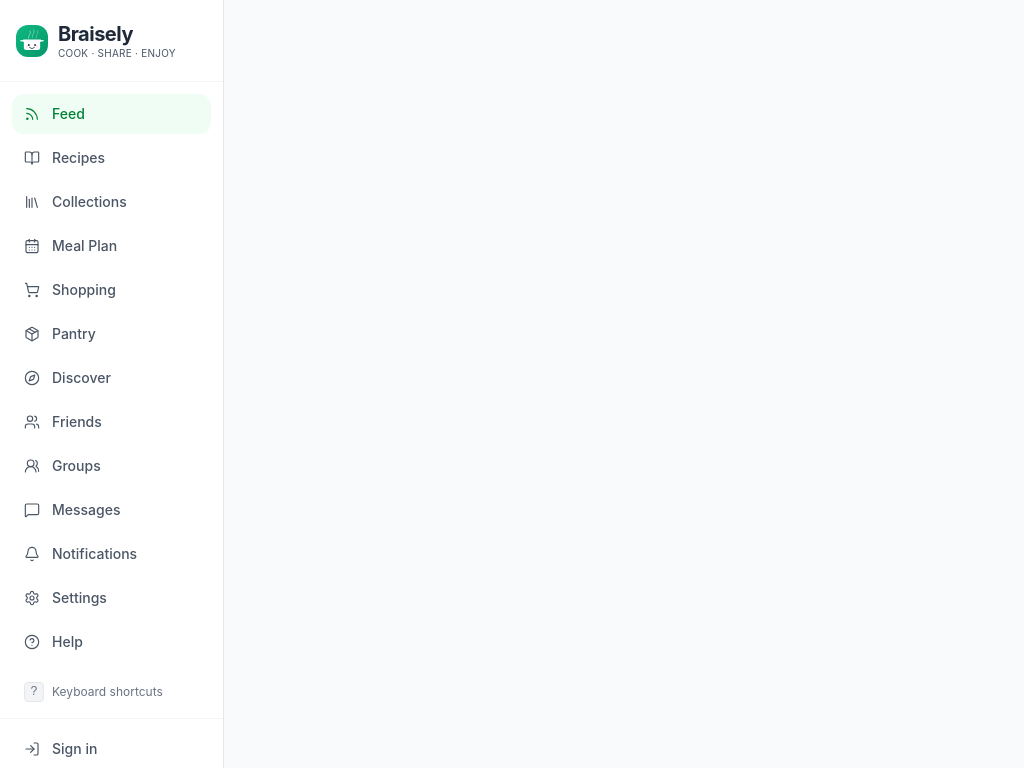
Test case: Layout › keyboard shortcuts dialog › opens the keyboard shortcuts dialog when the hint button is clicked
This screenshot has width=1024, height=768.
Click the button "? Keyboard shortcuts".
click(112, 692)  # box [12,674,211,710]
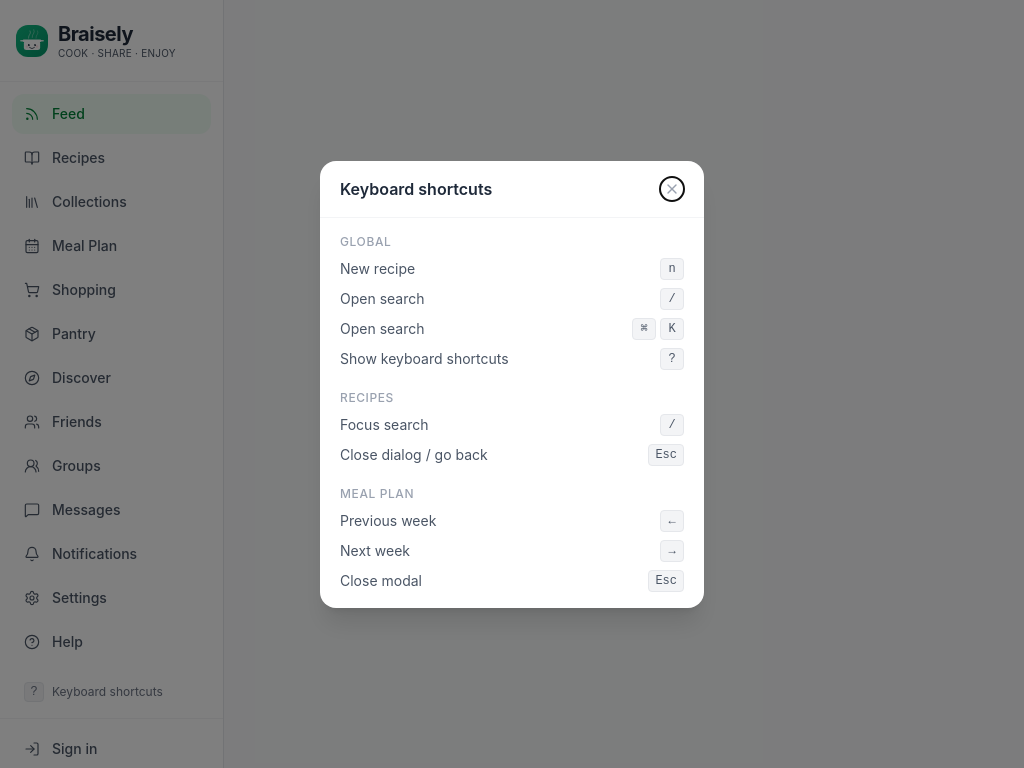
Now the dialog "Keyboard shortcuts" is shown, box [320,160,704,608]
